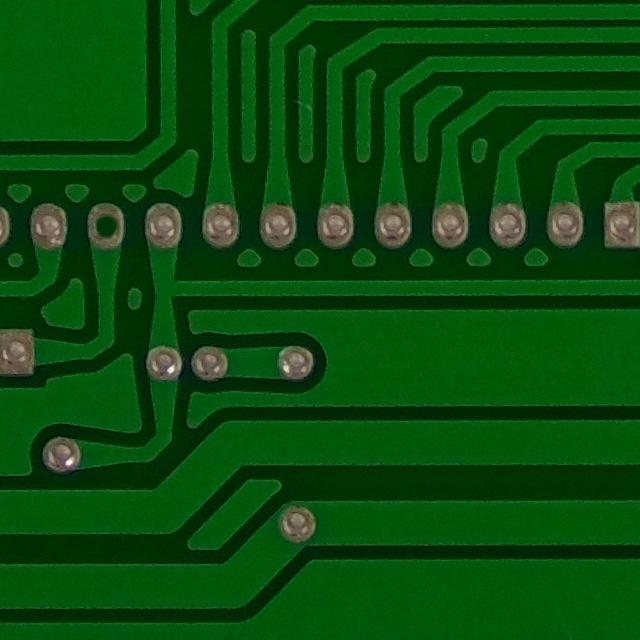missing_hole: (79, 195, 138, 256)
